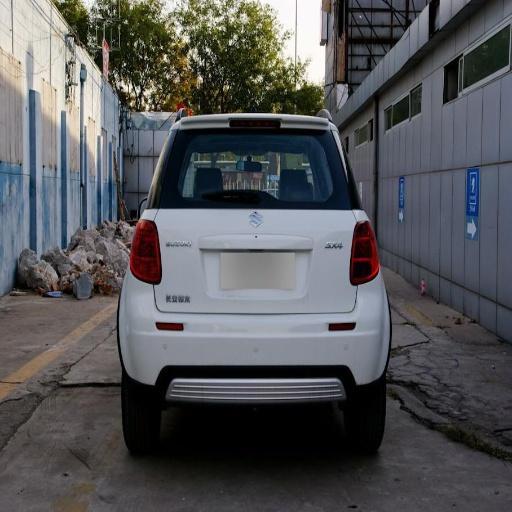back_bumper: (119, 271, 386, 409)
trunk: (149, 211, 354, 319)
